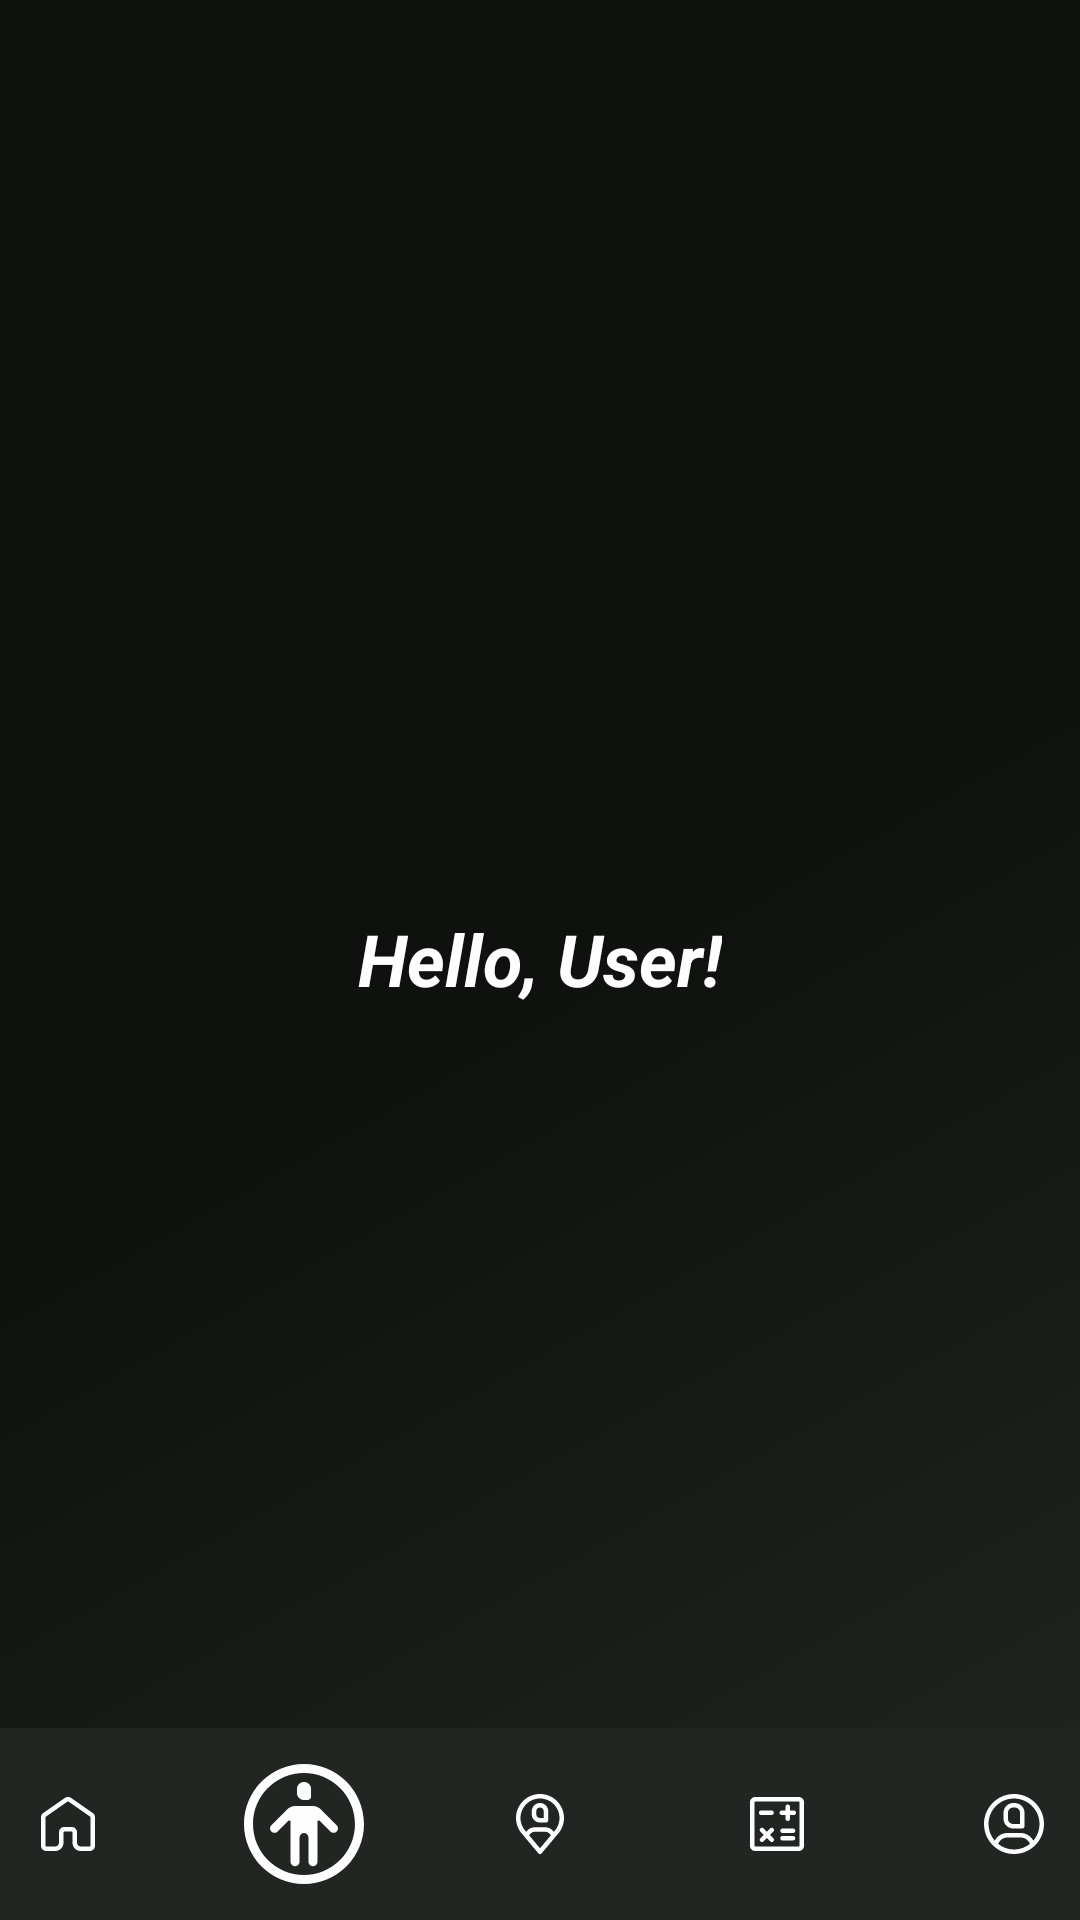

Screen size 1080w x 1920h. Icon name, then its box in pixels as (x1, y1, x2, y2):
system attribution: (244, 1764, 364, 1884)
system calculate: (750, 1797, 804, 1851)
system location user: (516, 1794, 564, 1854)
